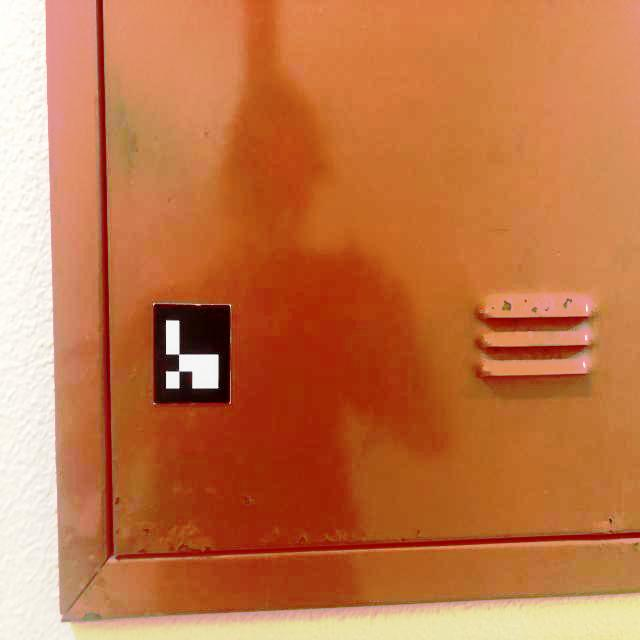Corrosion: (176, 543, 213, 554), (82, 612, 102, 621), (502, 299, 512, 311), (563, 298, 573, 310), (142, 528, 150, 535), (114, 497, 120, 506), (298, 537, 305, 544), (244, 497, 250, 505), (138, 548, 146, 554), (609, 530, 619, 534), (531, 306, 537, 312), (325, 538, 332, 543), (633, 541, 639, 546), (609, 517, 613, 524), (595, 532, 603, 535), (545, 306, 549, 311), (61, 620, 69, 622), (524, 298, 527, 303), (492, 306, 495, 309), (402, 538, 406, 540), (418, 531, 420, 533)
